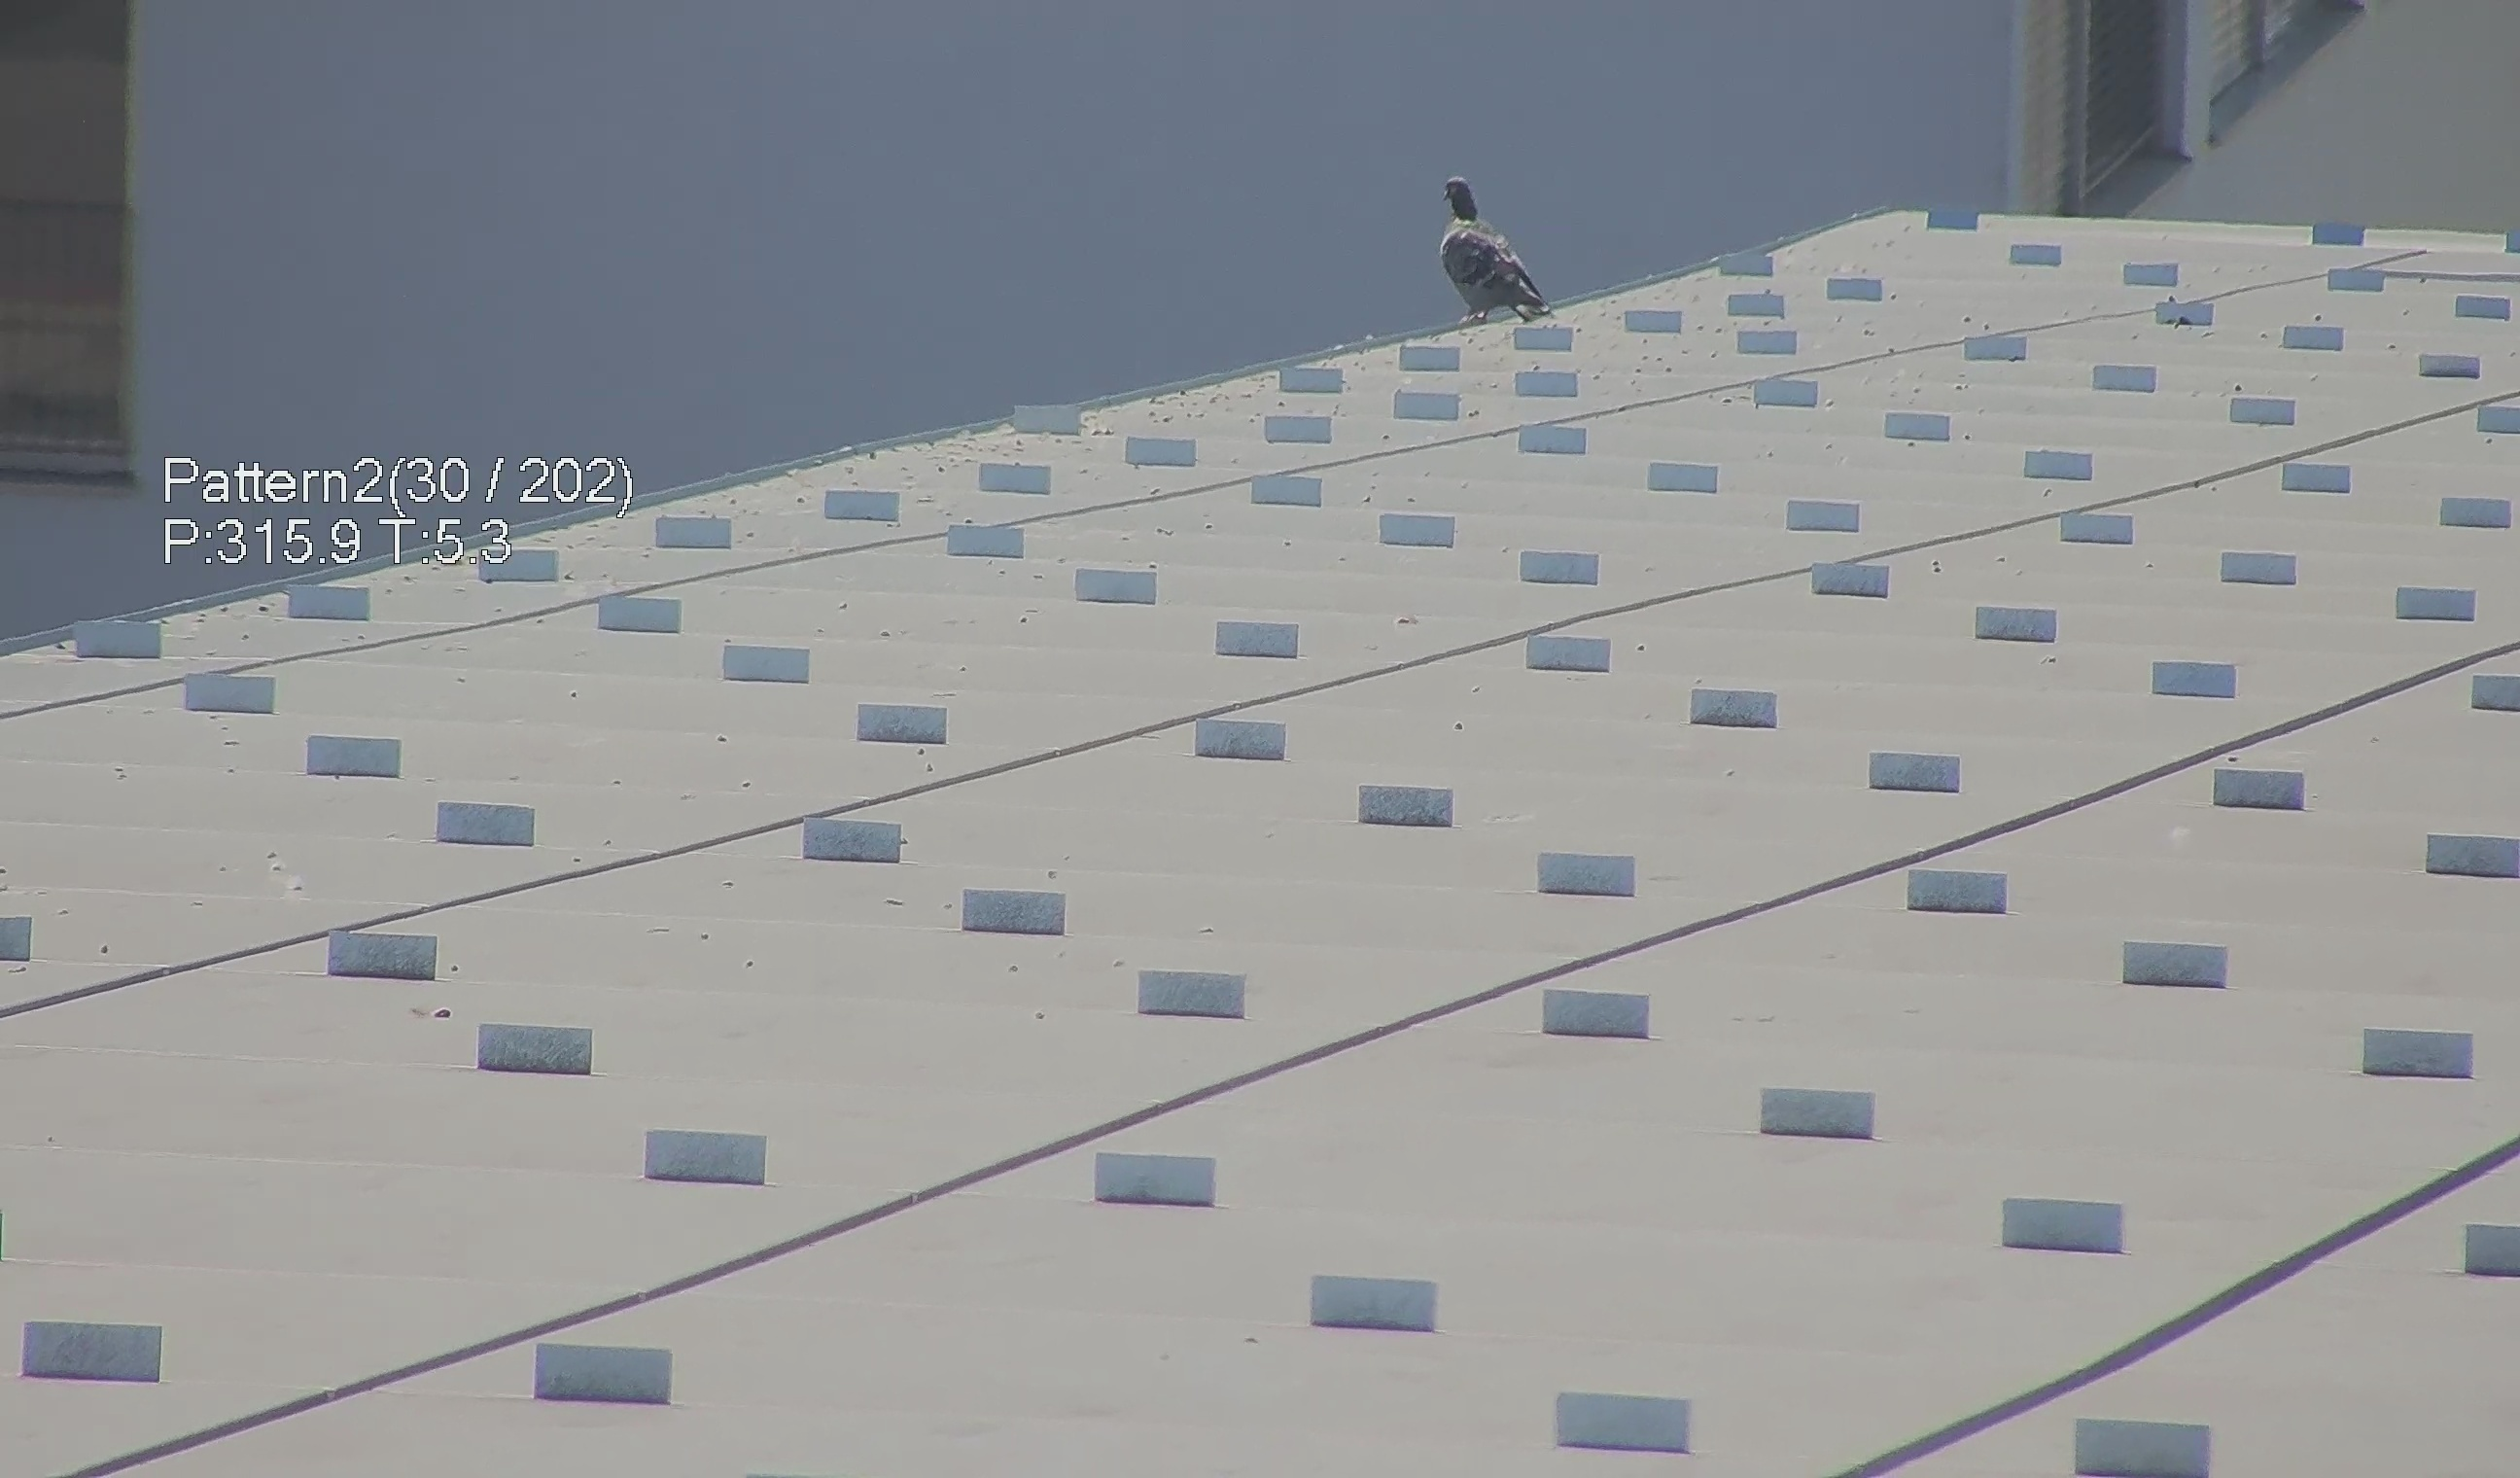Pigeon: (1423, 167, 1565, 318)
